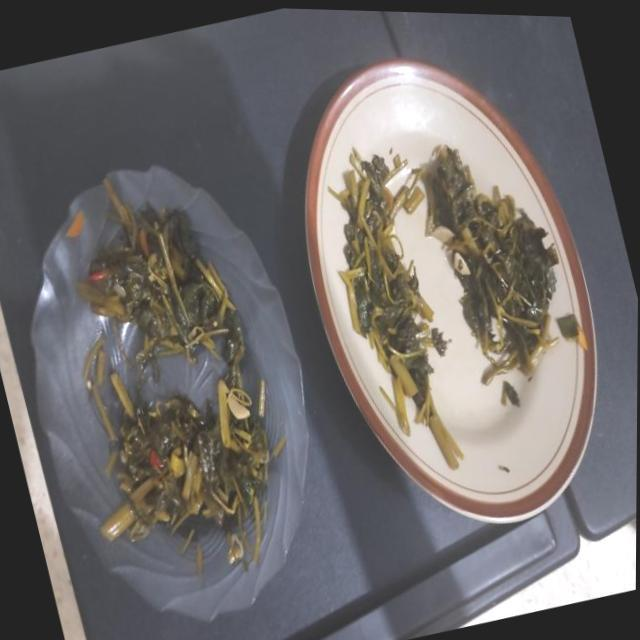tumis_kangkung: (328, 148, 463, 468), (101, 372, 286, 564), (424, 146, 558, 384), (77, 206, 244, 367)
